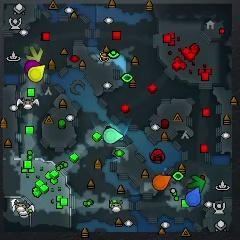p1: (185, 187, 201, 206)
p2: (103, 128, 123, 143)
p3: (25, 59, 40, 73)
p4: (29, 65, 45, 81)
p5: (153, 174, 170, 190)
x2: (27, 45, 43, 62)
x4: (188, 174, 205, 191)
